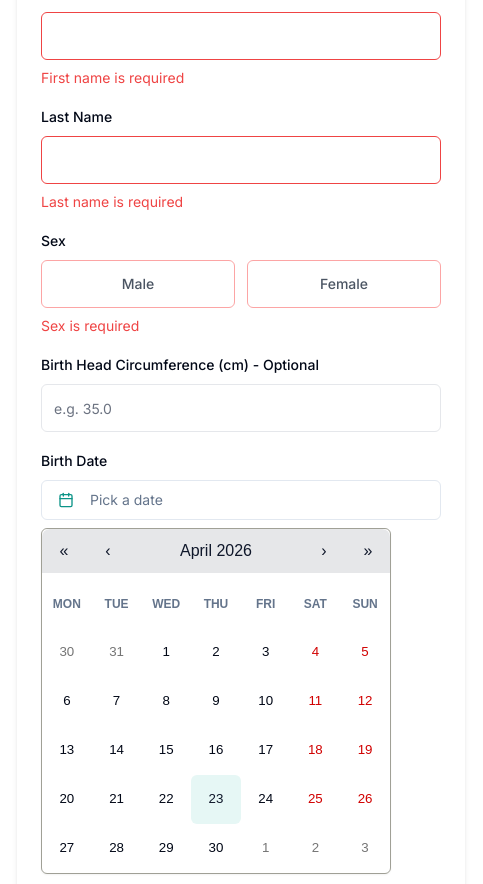
Test: NewPatientForm › selects sex Female and clears sex error
The width and height of the screenshot is (483, 884).
Earlier steps of the test are not shown.
(page scrolled)
Expected: the text "Sex is required" is shown, [41,317,139,334]
What coordinates should you click on to do the following:
click the button "Female"
I would click on:
 (344, 284)
Its box is [247,260,441,308].
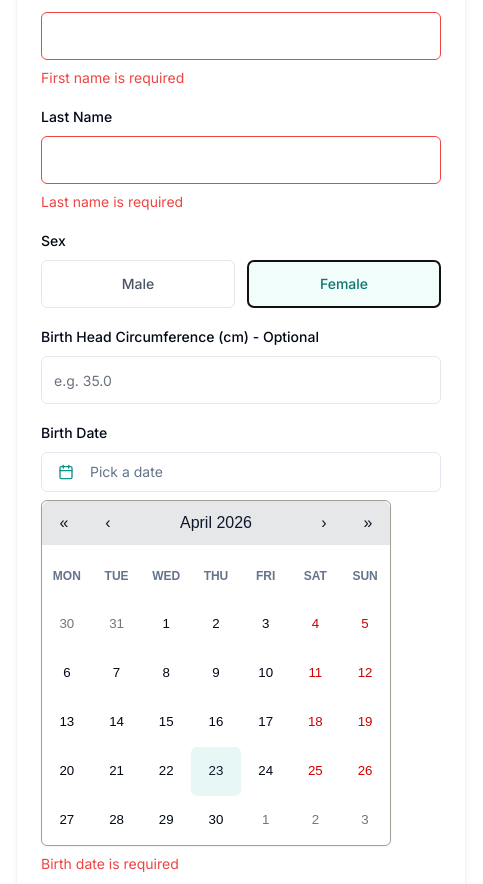
Now the text "Sex is required" is gone
